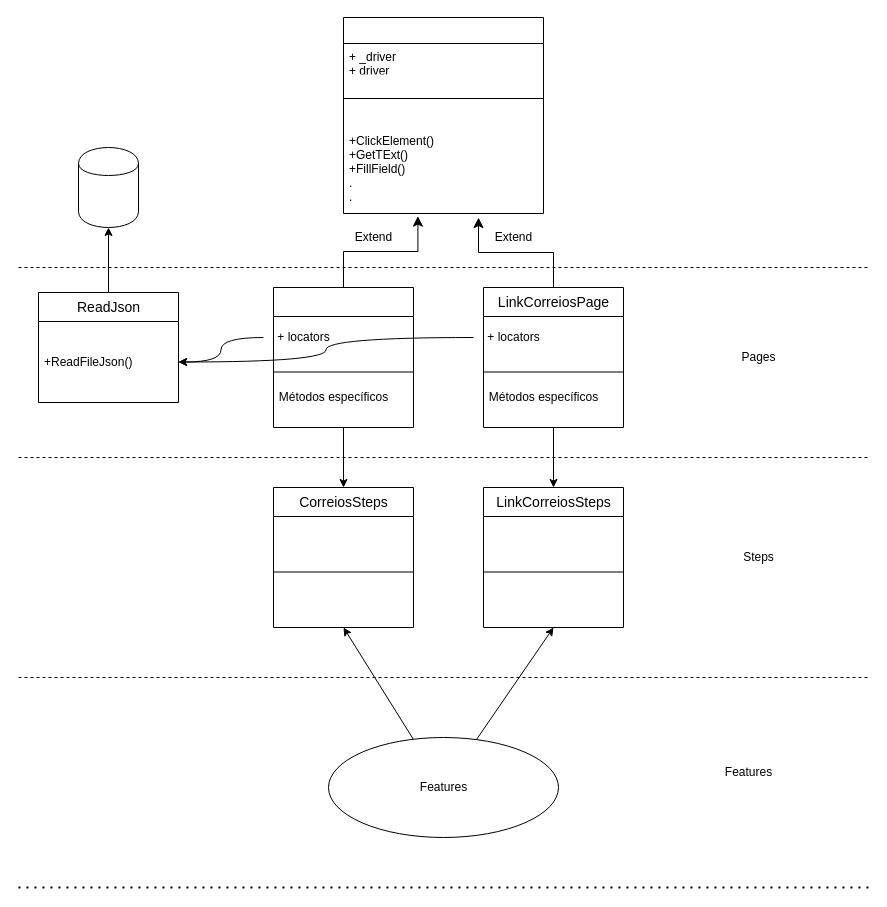
The diagram is 887 pixels wide and 907 high, and some of its shapes have lost their labels. Each missing label, with the box of its shape:
CorreiosPage: (272, 286, 414, 428)
Helper: (342, 16, 544, 214)
Locators JSON: (78, 146, 138, 228)
